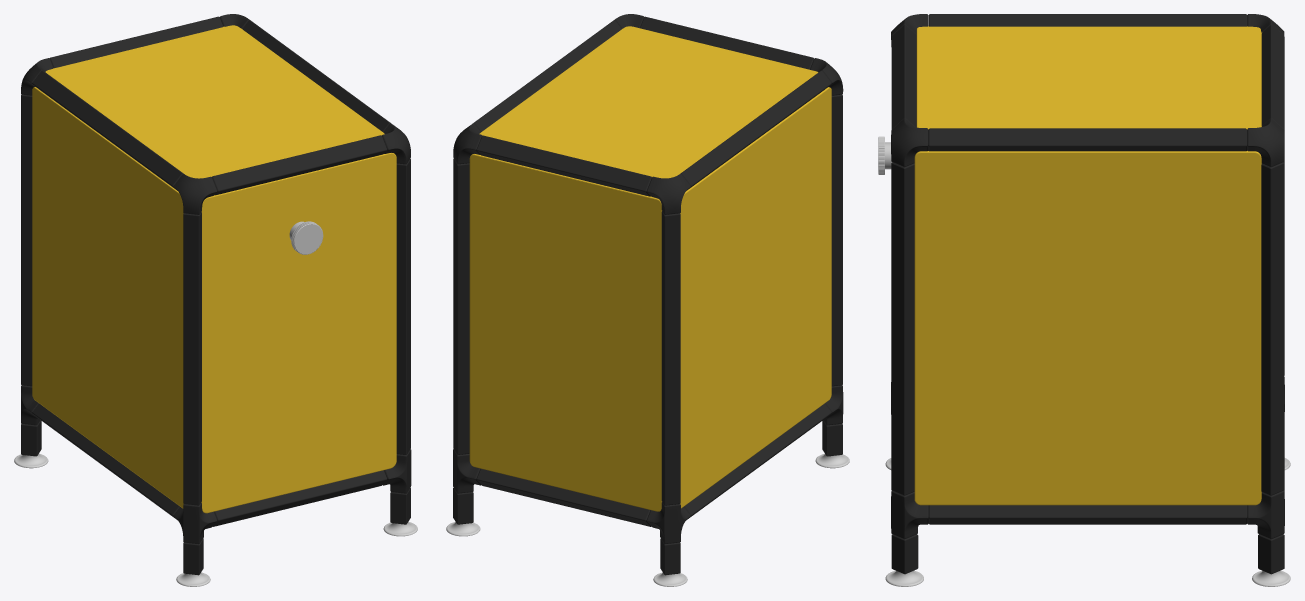
3 views of the same model, side by side, from view 1: azimuth 30°, elevation 25°; view 2: azimuth 150°, elevation 25°; view 3: azimuth 270°, elevation 25° (orthographic). The views are drawn at different scales.
Visible parts, largest first — view 1: 229x329x374; view 2: 229x329x374; view 3: 229x329x374.
Part boxes in pixels (<box>): 229x329x374: <box>14,14,417,586</box>; 229x329x374: <box>446,14,849,586</box>; 229x329x374: <box>878,14,1290,586</box>.
Bounding box in the file's own units: 0.3189 × 0.5133 × 0.4257.
